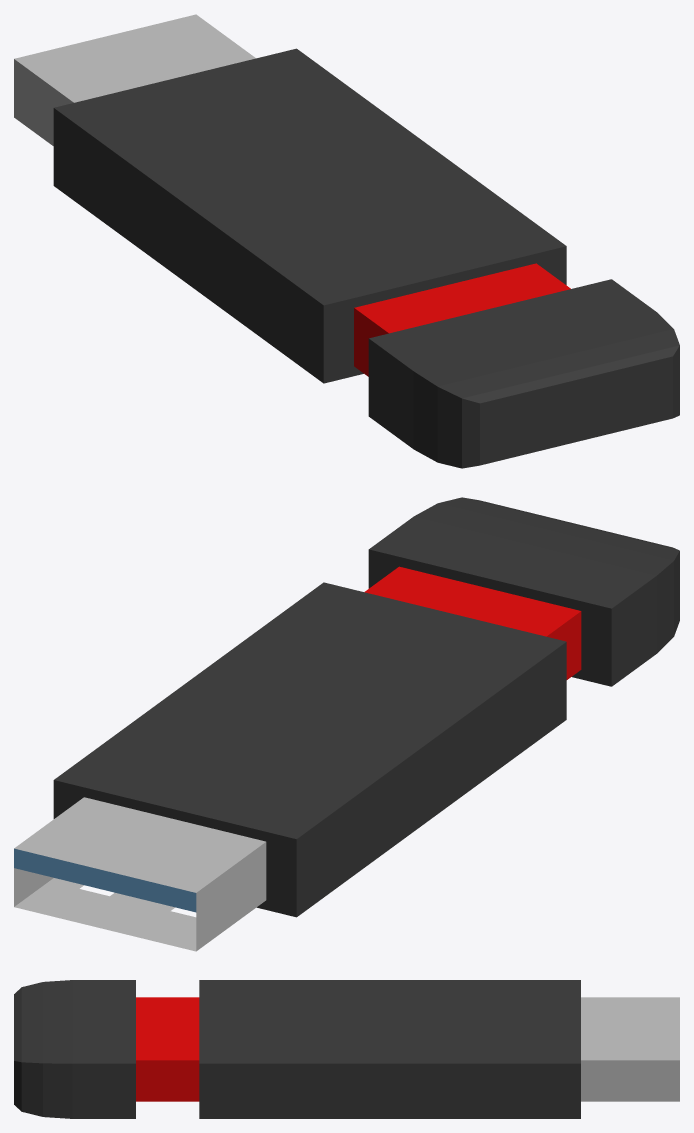
Rendered from Pendrive.fbx.
3 views of the same model, one above another, from view 1: azimuth 30°, elevation 25°; view 2: azimuth 150°, elevation 25°; view 3: azimuth 270°, elevation 25° (orthographic). The views are drawn at different scales.
Parts seen in each view (by area): view 1: Cube; view 2: Cube; view 3: Cube.
Part boxes in pixels (box(x1,y1,x2,y2)): Cube: box(14, 14, 679, 468); Cube: box(14, 497, 679, 951); Cube: box(14, 980, 679, 1118).
Size of the model in its own units: 200 by 61.47 by 672.
